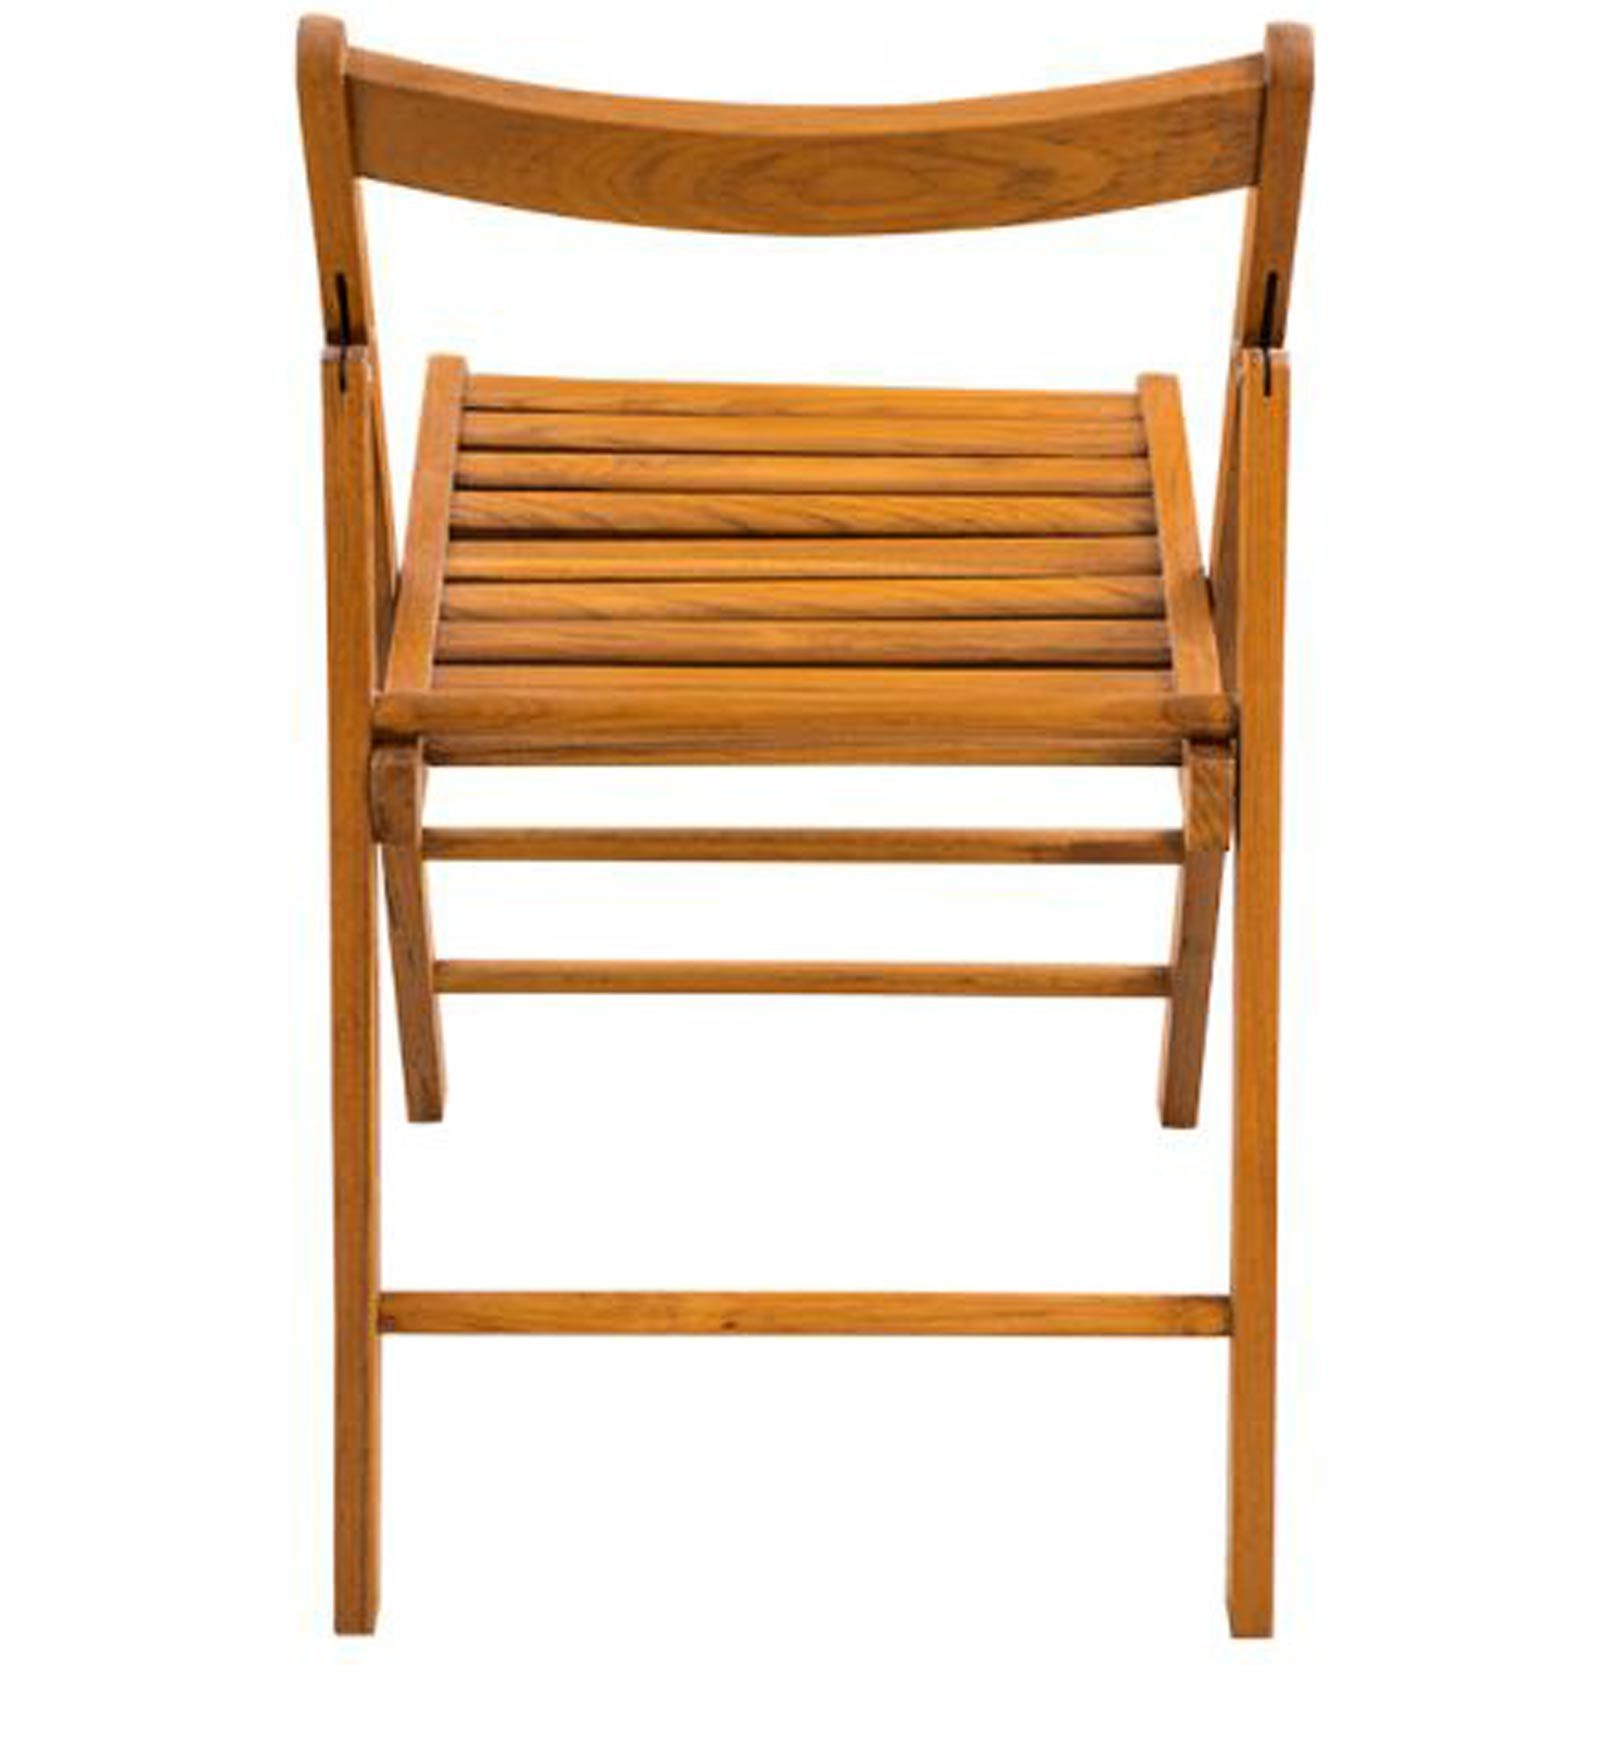Aspen Folding Chair by InLiving: (176, 15, 1369, 1689)
